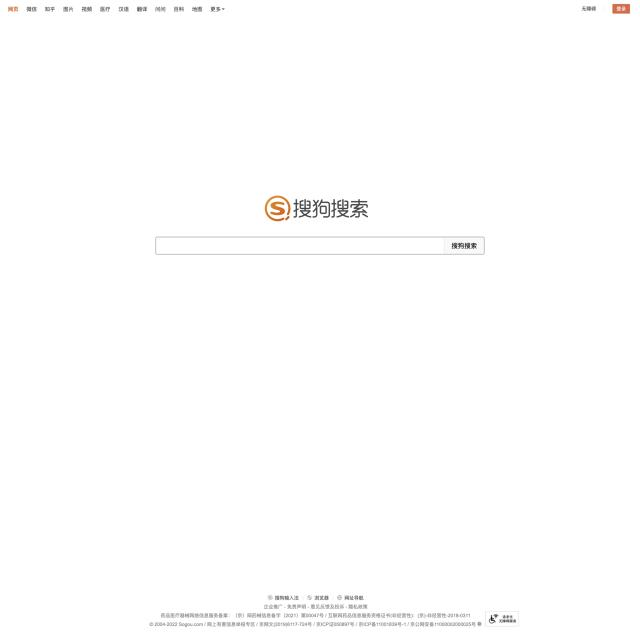footer: (0, 590, 640, 640)
input: (155, 236, 485, 256)
logo: (262, 192, 372, 226)
navigation: (7, 3, 228, 15)
